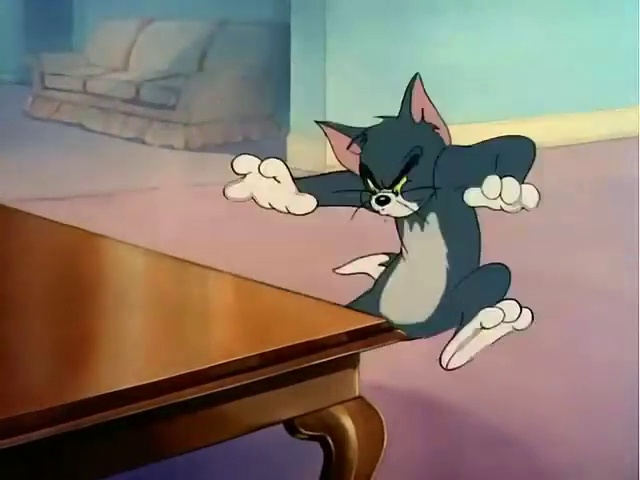tom: (209, 59, 547, 383)
